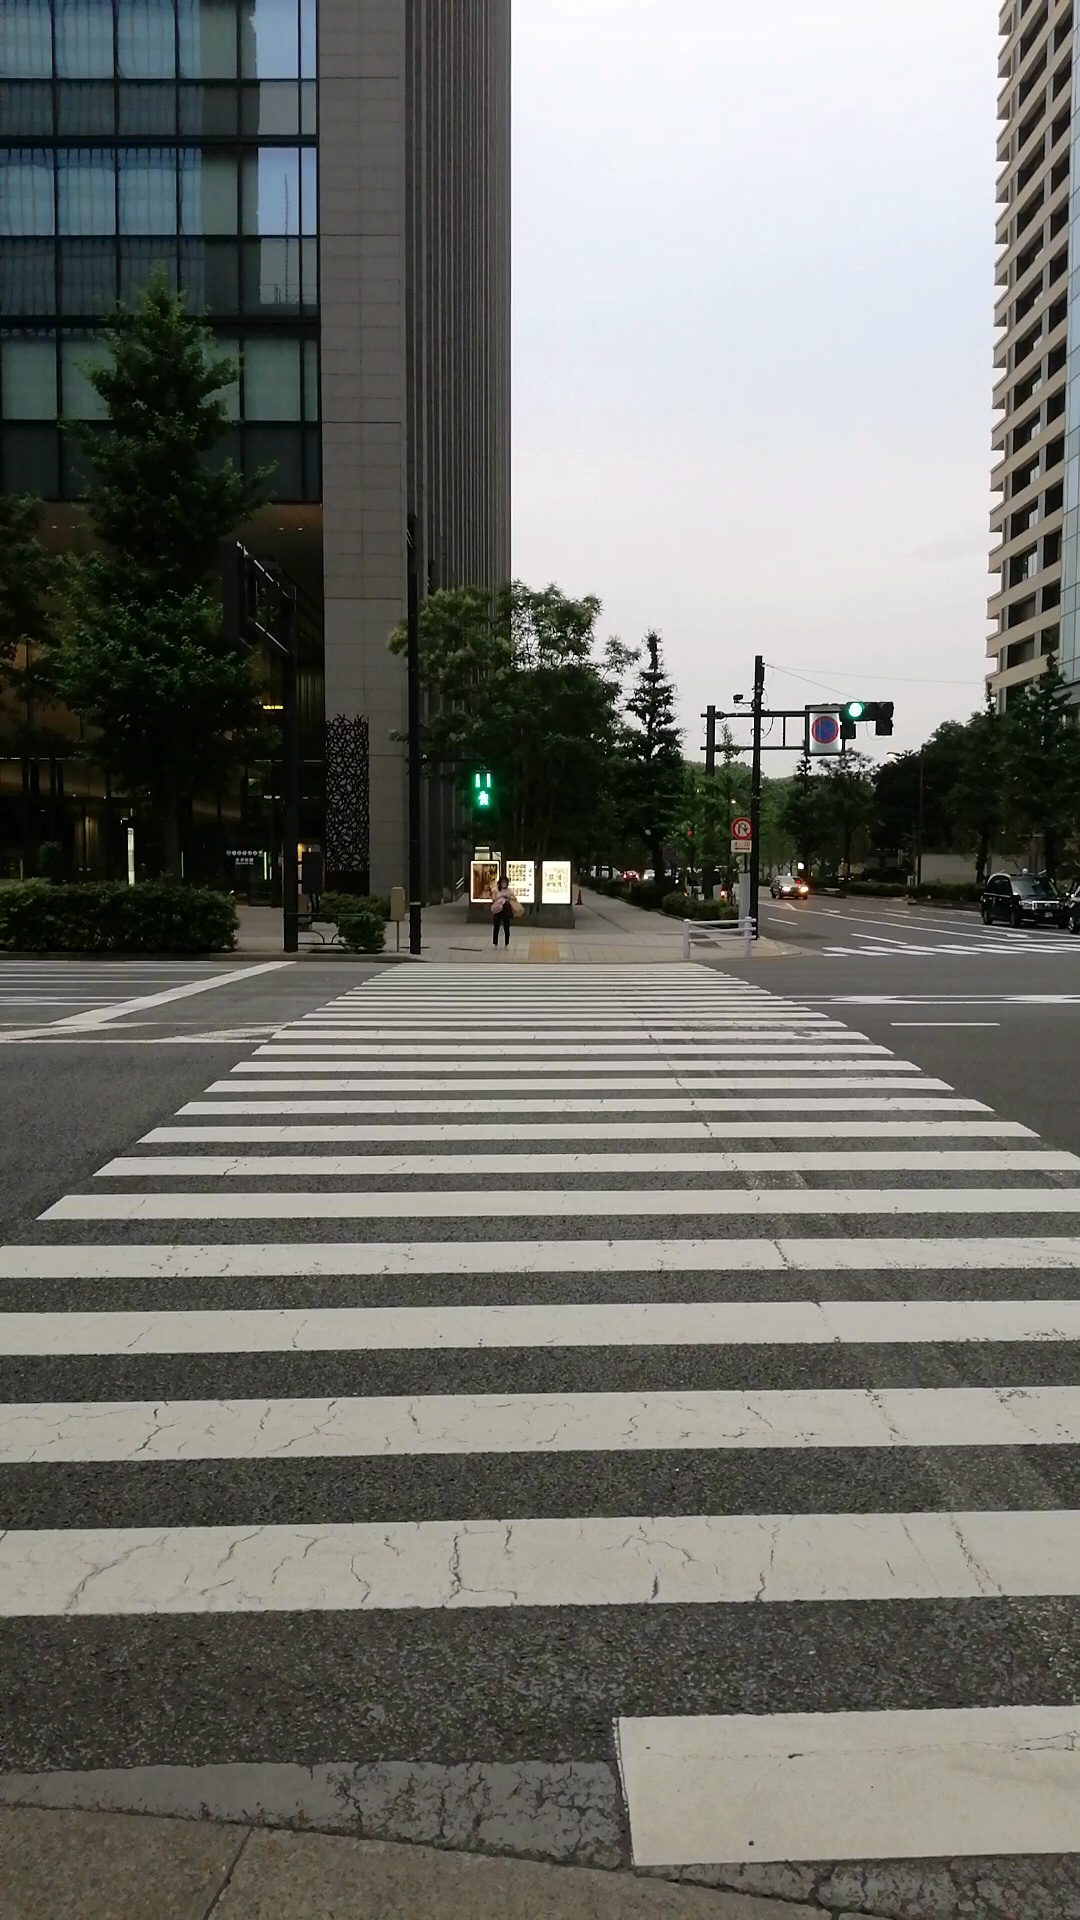green: (469, 769, 495, 810)
